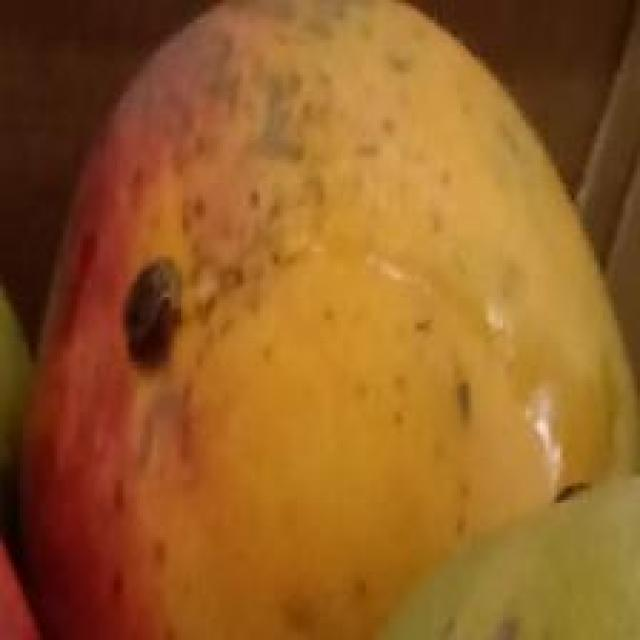Bad_Mango: (26, 2, 628, 639)
